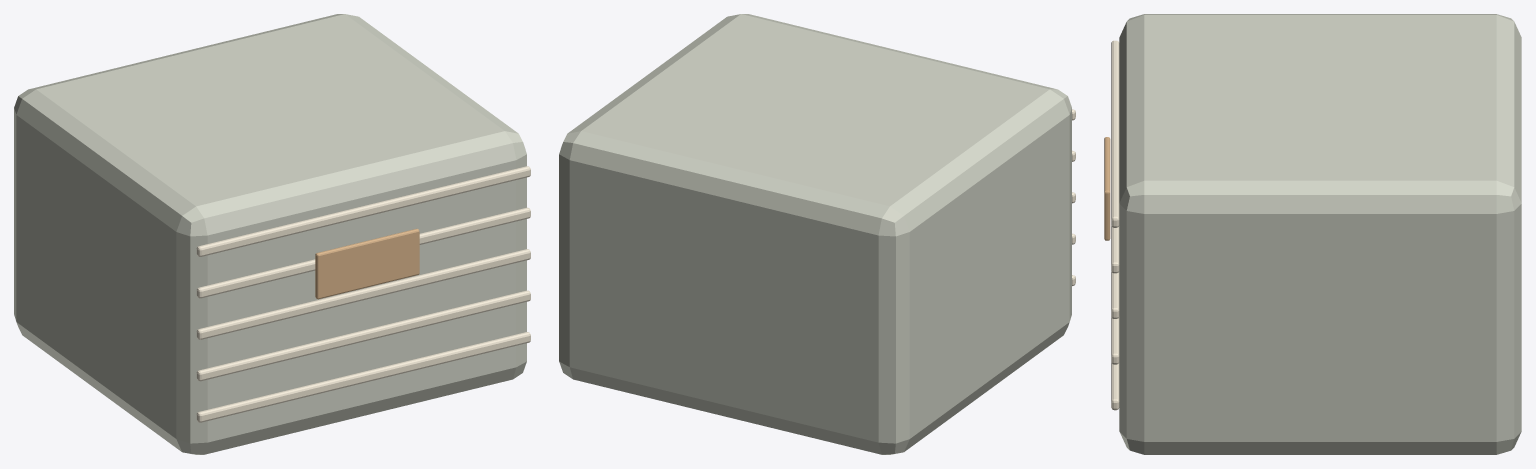
Rendered from storage_bin.glb.
3 views of the same model, side by side, from view 1: azimuth 30°, elevation 25°; view 2: azimuth 150°, elevation 25°; view 3: azimuth 270°, elevation 25° (orthographic). The views are drawn at different scales.
Parts seen in each view (by area): view 1: storage_bin_Mesh; view 2: storage_bin_Mesh; view 3: storage_bin_Mesh.
Part boxes in pixels (<box>): storage_bin_Mesh: <box>14,14,530,454</box>; storage_bin_Mesh: <box>559,14,1075,454</box>; storage_bin_Mesh: <box>1104,14,1521,454</box>.
Bounding box in the file's own units: 0.44 × 0.3 × 0.415.
